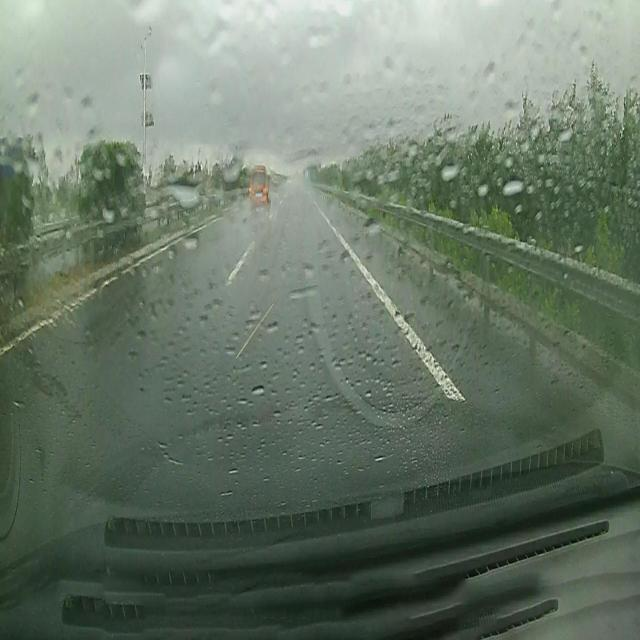car: (246, 158, 272, 218)
